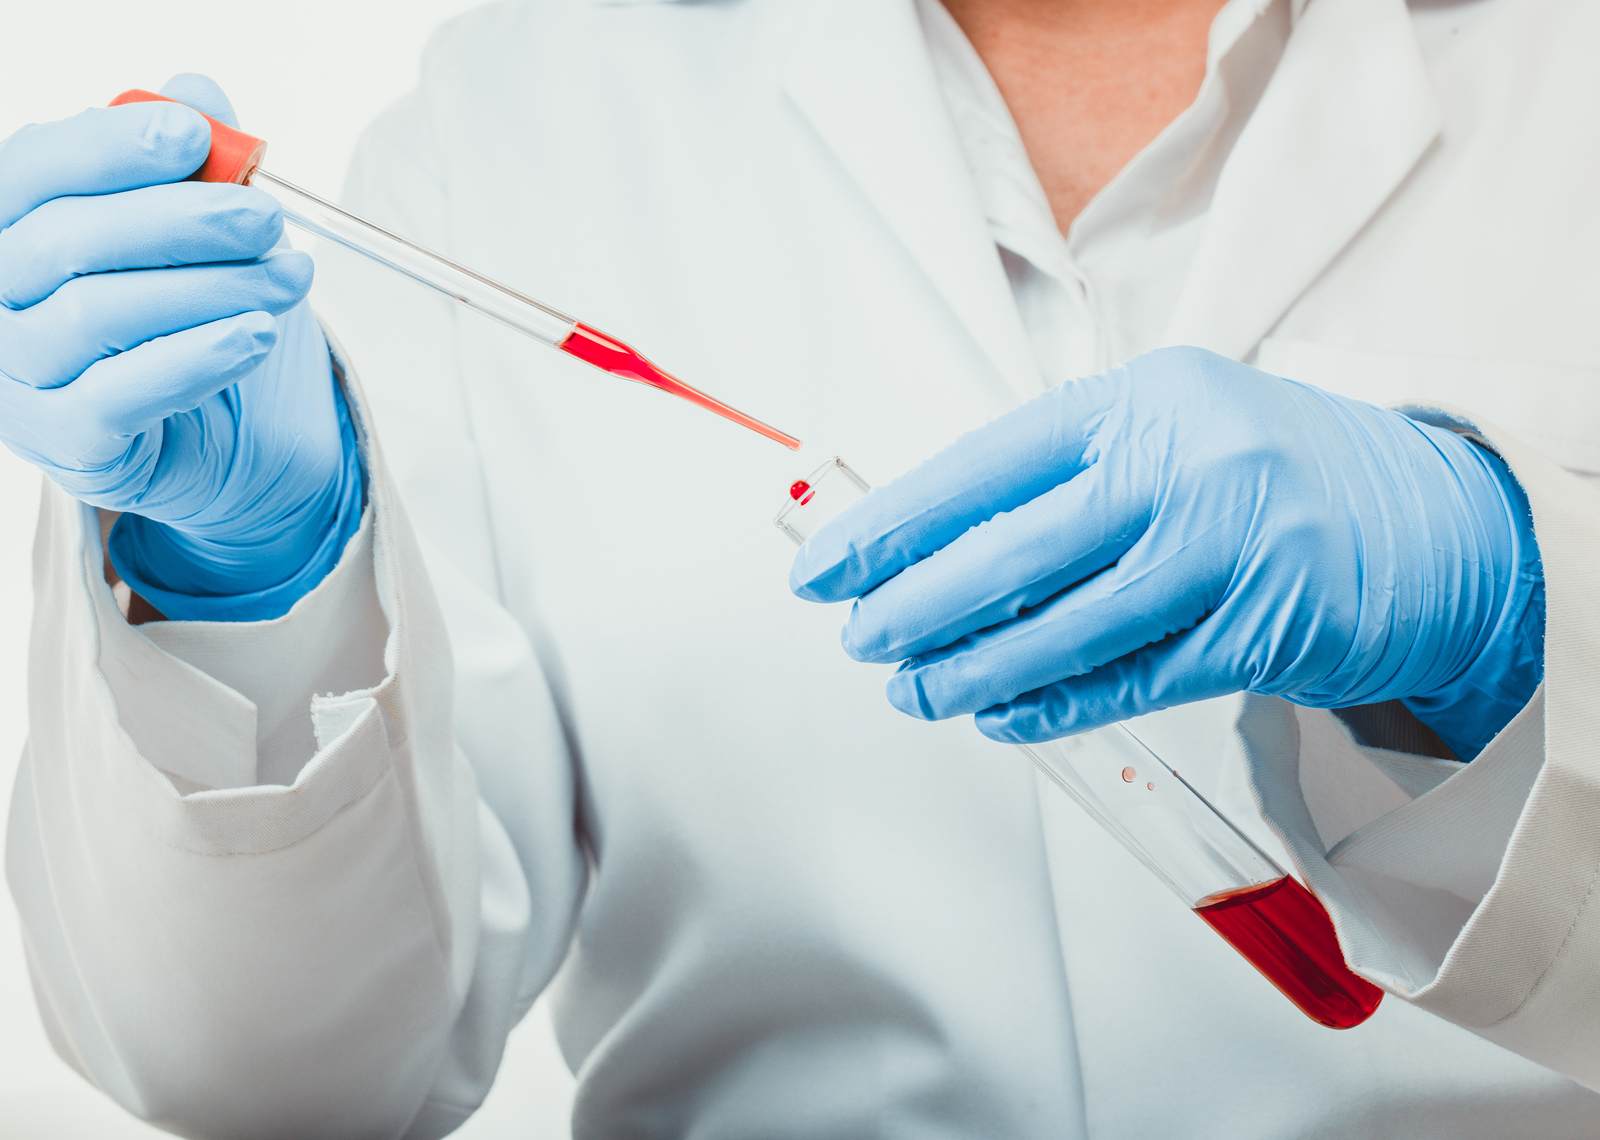Gloves: (781, 337, 1568, 765), (1, 69, 371, 617)
